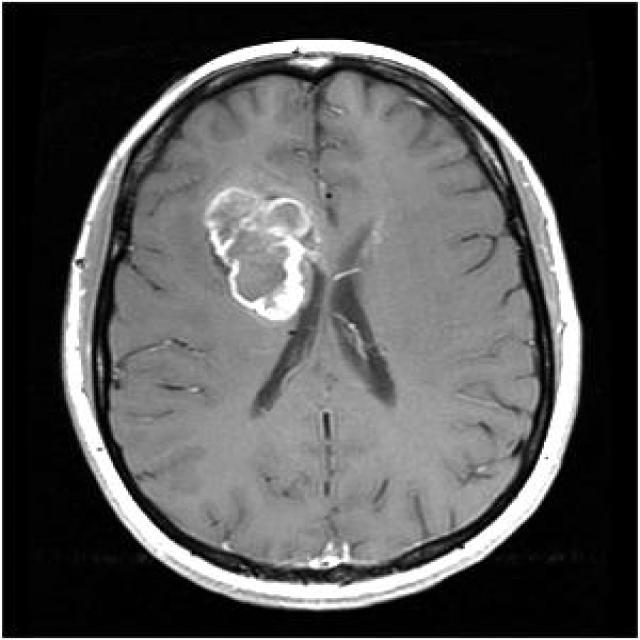Tumor-Cell: (188, 164, 314, 323)
